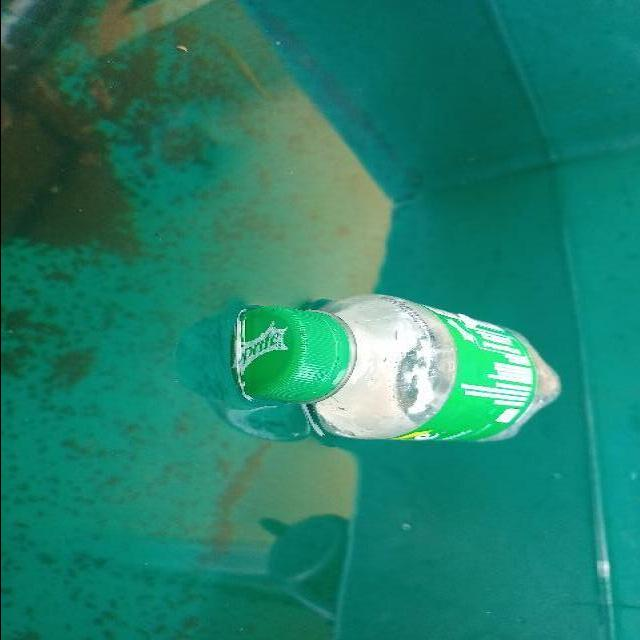Bottle: (229, 282, 569, 453)
